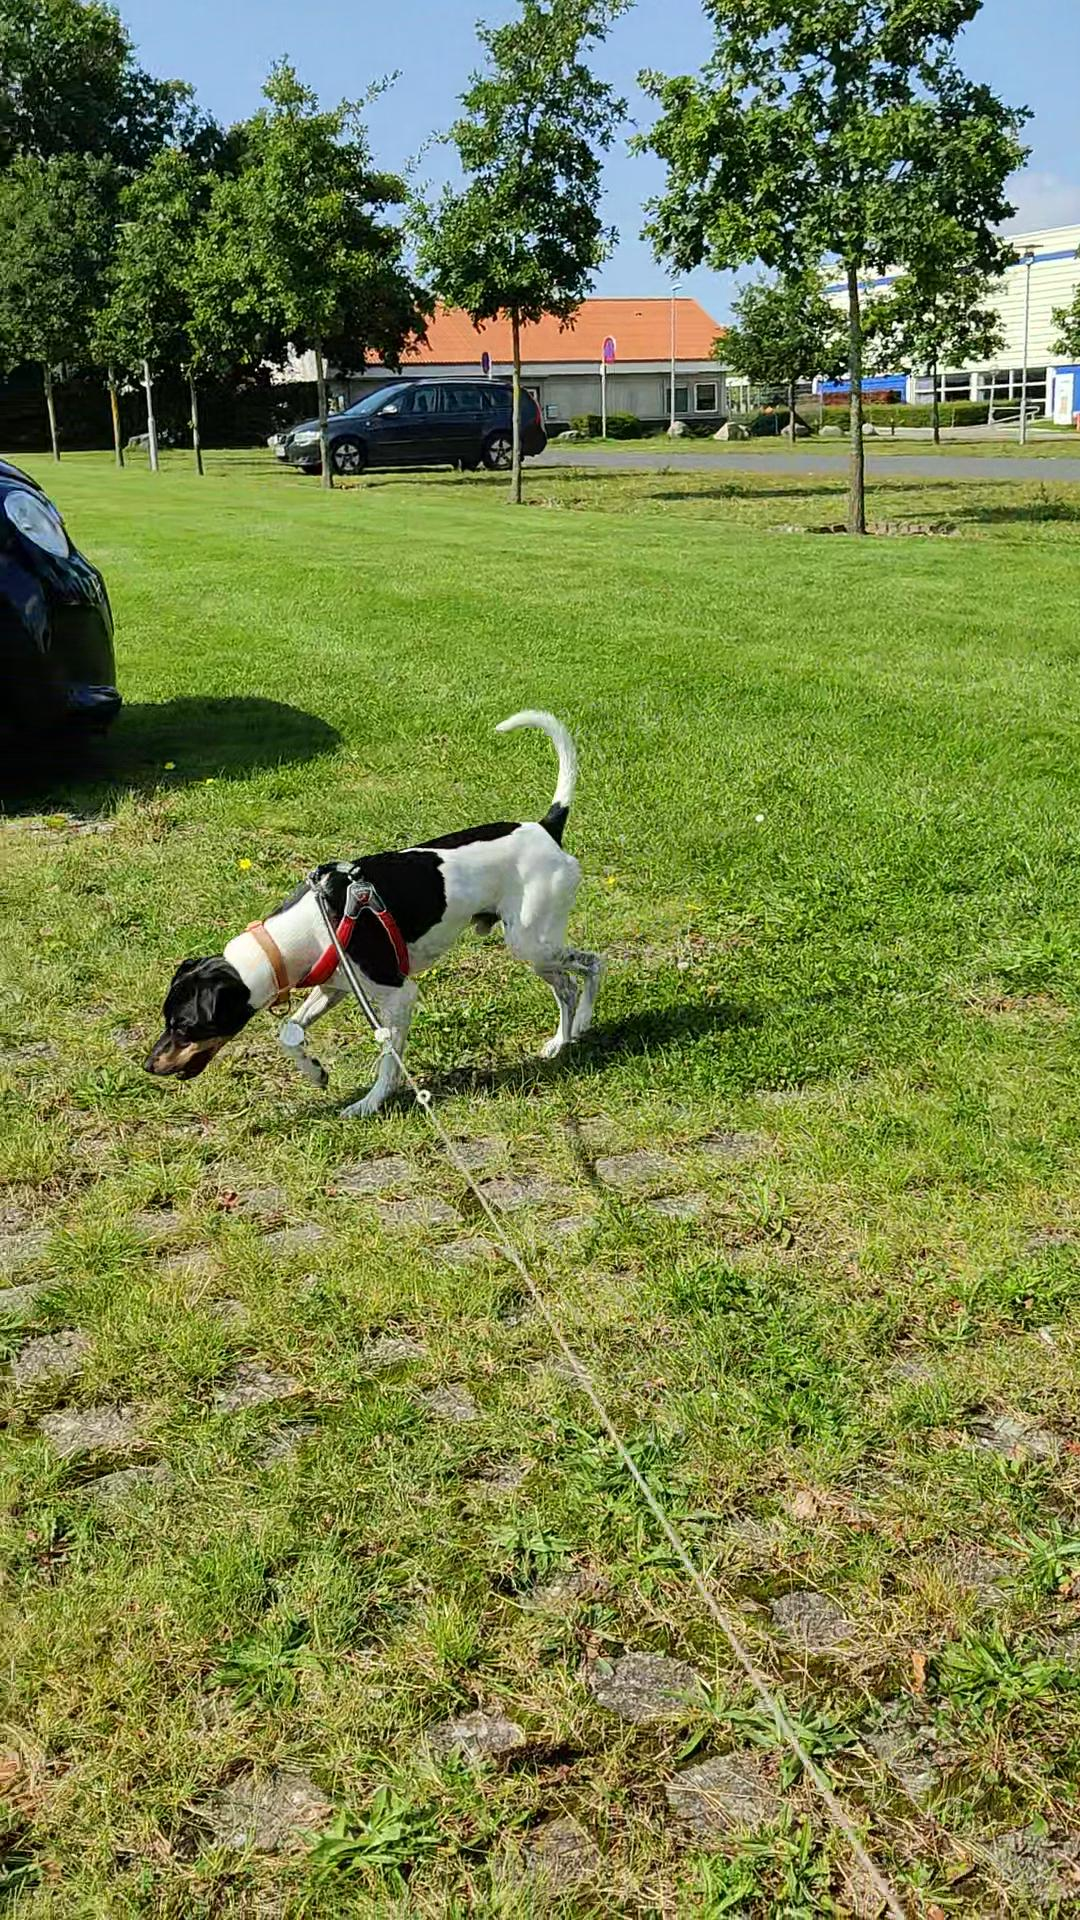Dog: (138, 705, 604, 1124)
